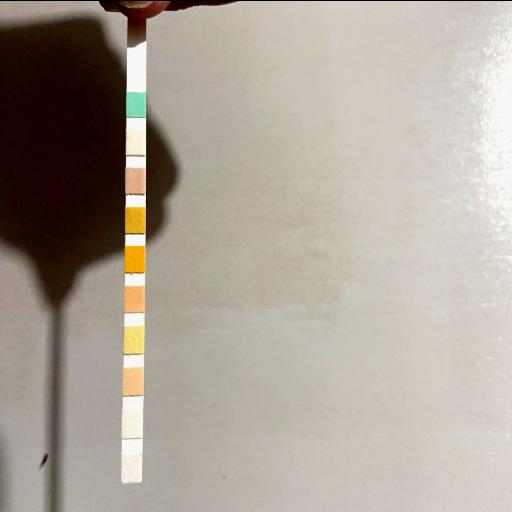Bilirubin: (126, 130, 146, 154)
Blood: (124, 245, 144, 271)
Glucose: (126, 92, 146, 116)
Ketone: (126, 167, 146, 193)
Leukocytes: (122, 453, 142, 481)
Nitrite: (122, 408, 142, 438)
Protein: (124, 326, 144, 352)
SpGravity: (126, 206, 146, 232)
Urobilinogen: (124, 367, 144, 395)
pH: (124, 286, 144, 312)
strip: (121, 21, 146, 482)
